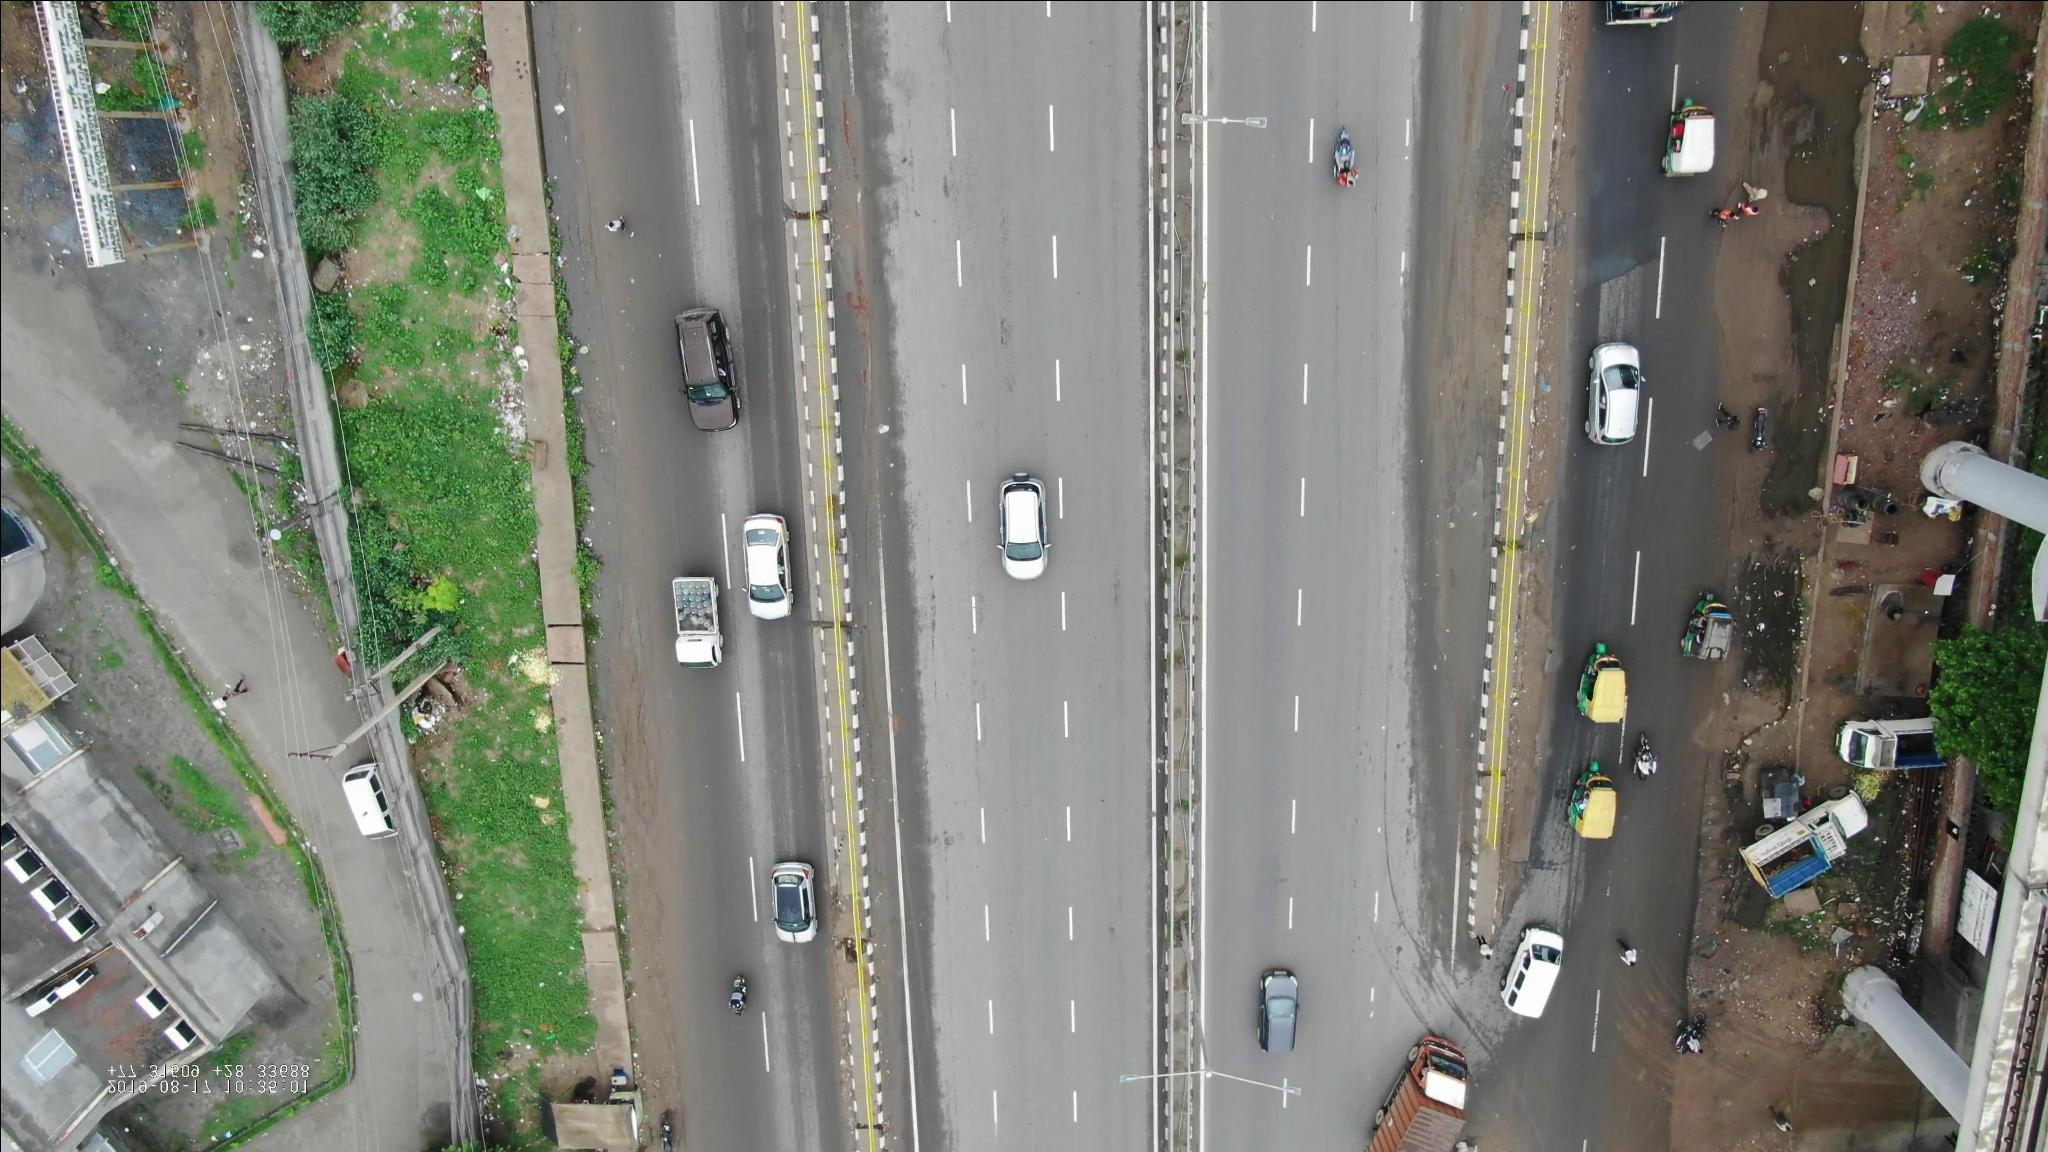Muddy_road: (588, 574, 670, 864), (1433, 205, 1506, 454), (612, 876, 677, 1051)
Waterlogging: (1729, 111, 1852, 542), (533, 13, 603, 262), (1740, 535, 1812, 702)
